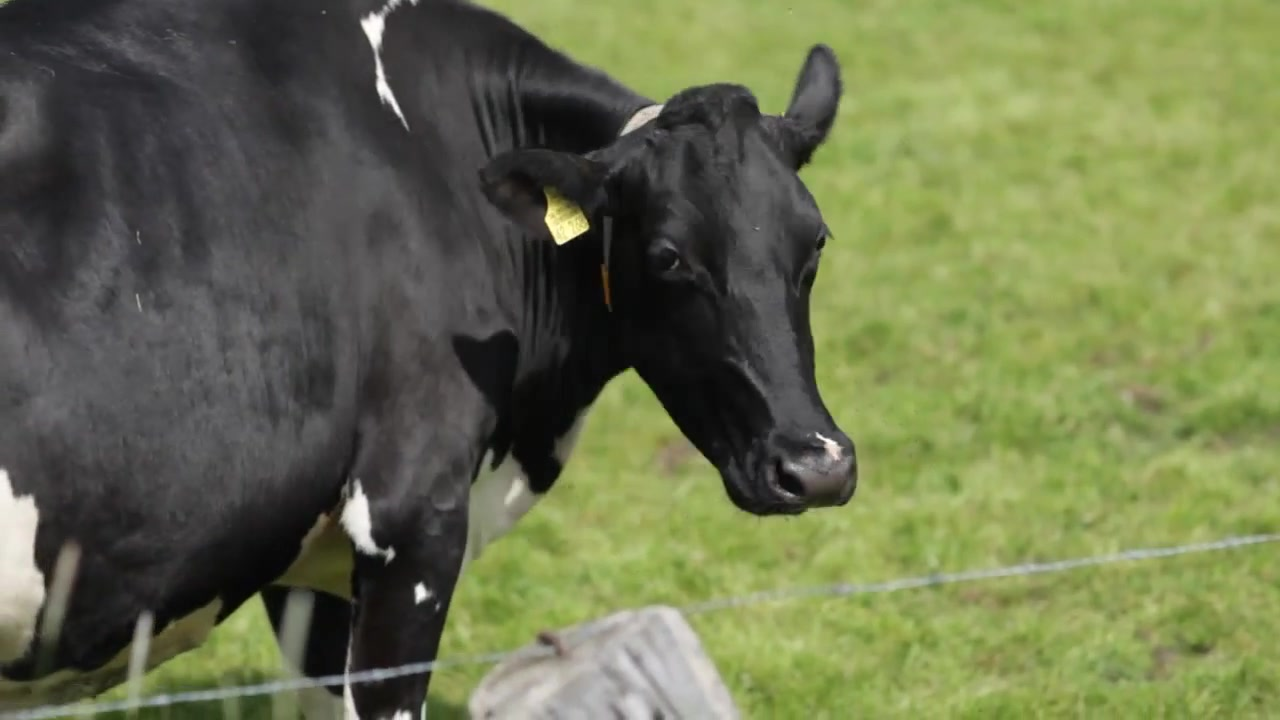cow: (1, 1, 855, 720)
